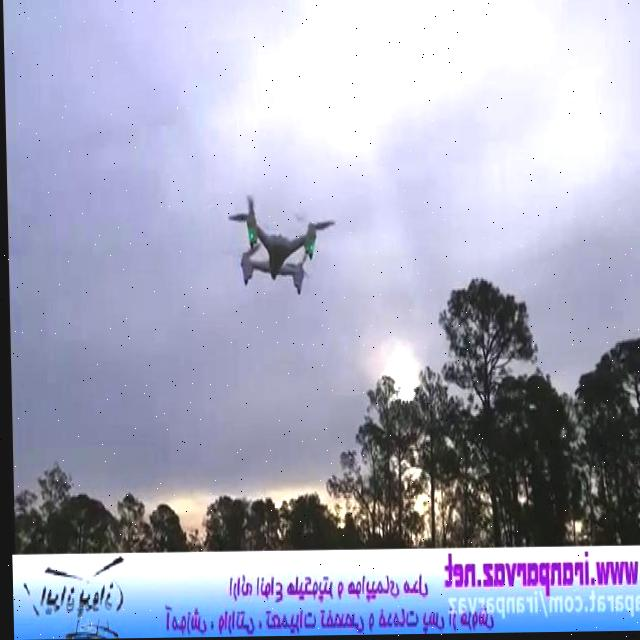drone: (225, 188, 340, 299)
